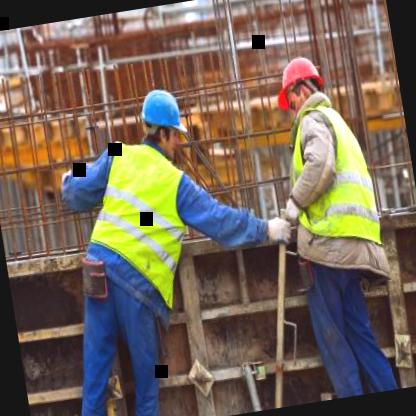helmet: (132, 78, 192, 166), (269, 46, 335, 120)
